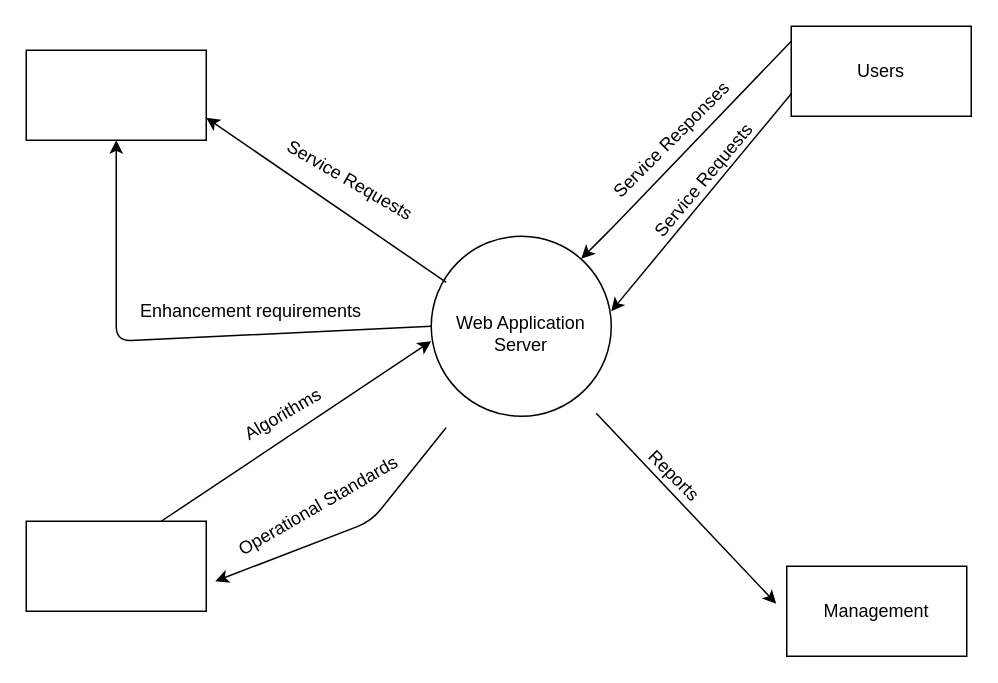
This 998x683 diagram has some shape labels left out. The centre of each missing label's shape, as x and y in pixels:
Integrated Program office: pixel 115 94
Product Developers: pixel 115 565
